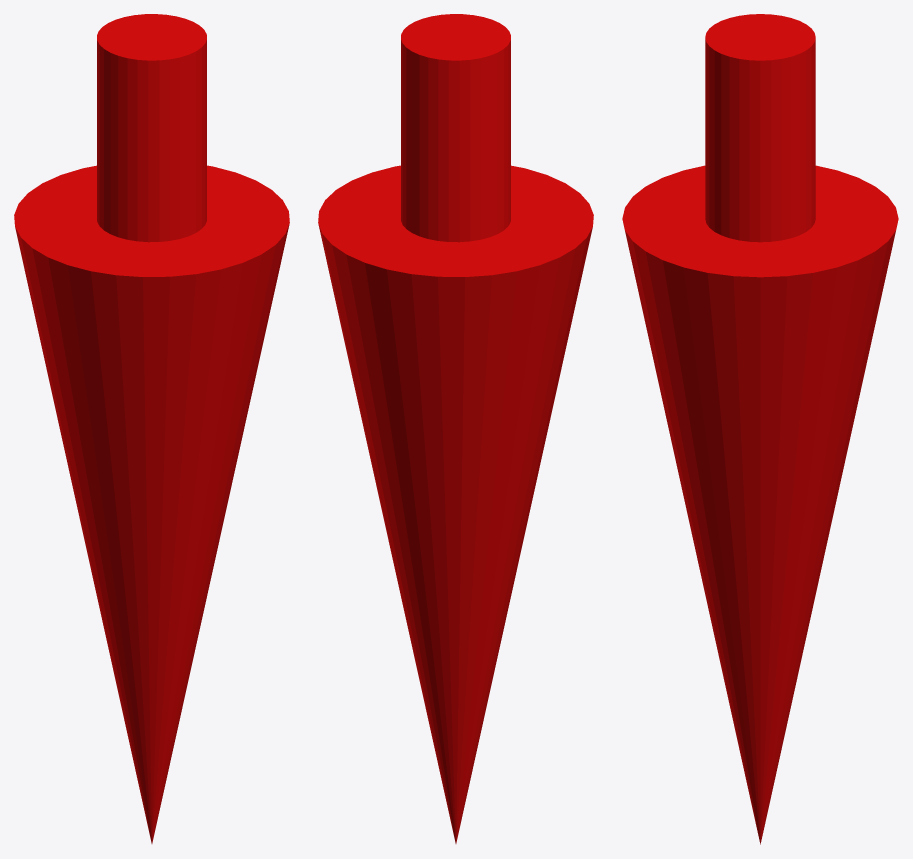
Rendered from point.dae.
3 renders of one model, left to right at view 1: azimuth 30°, elevation 25°; view 2: azimuth 150°, elevation 25°; view 3: azimuth 270°, elevation 25°, orthographic.
Visible parts, largest first — view 1: Cone; view 2: Cone; view 3: Cone.
Part boxes in pixels (x1=…): Cone: x1=14, y1=14, x2=289, y2=843; Cone: x1=318, y1=14, x2=593, y2=843; Cone: x1=622, y1=14, x2=898, y2=844.
Size of the model in its own units: 400 by 400 by 1290.
